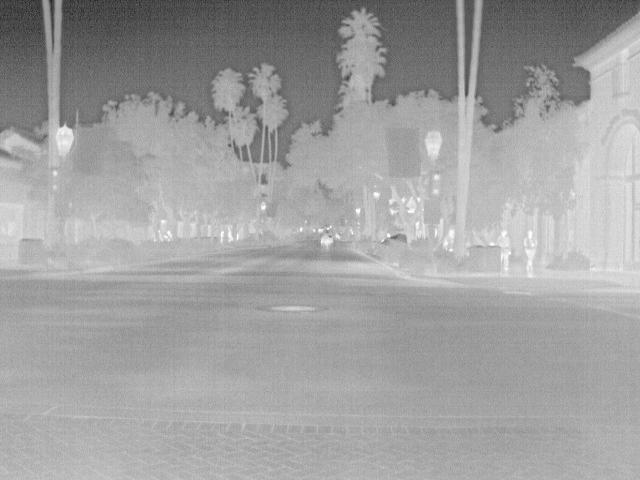car: (318, 233, 336, 249)
person: (523, 228, 539, 279), (496, 226, 513, 274), (438, 226, 455, 251)
